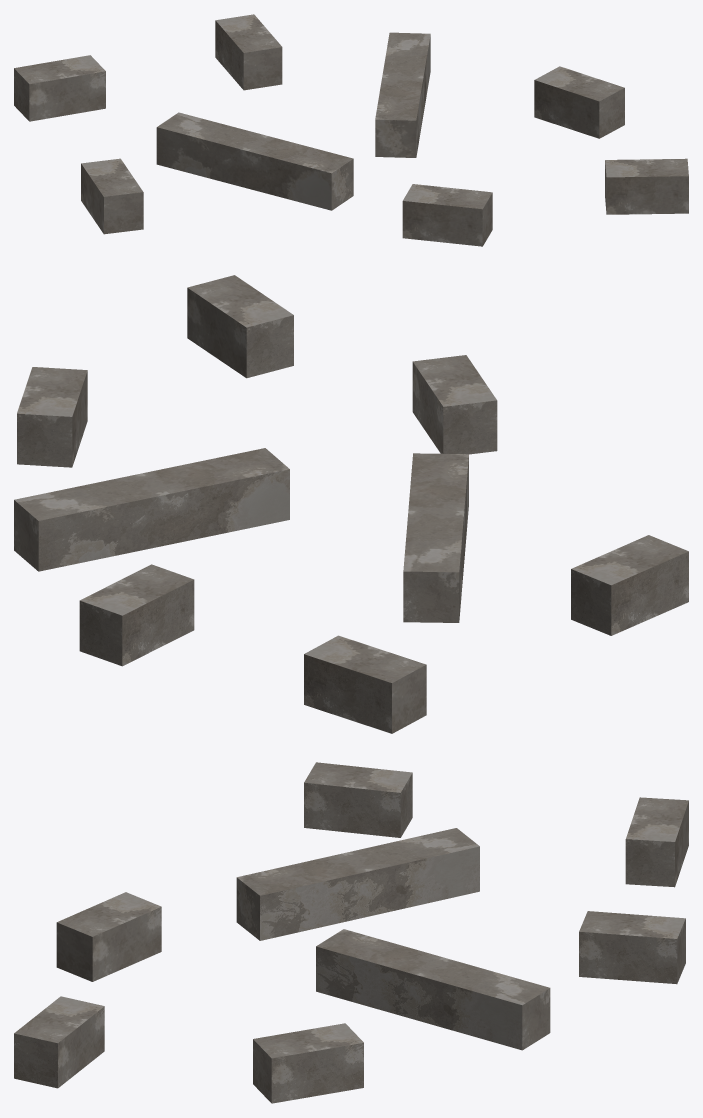
The model's file is Brick_Pile.fbx.
The picture shows the model from 3 angles, top to bottom: view 1: azimuth 30°, elevation 25°; view 2: azimuth 150°, elevation 25°; view 3: azimuth 270°, elevation 25°; orthographic projection. The views are drawn at different scales.
Visible parts, largest first — view 1: Column001, Column002, Brick006, Brick004, Brick003, Brick005, Brick002, Brick001; view 2: Column002, Column001, Brick006, Brick001, Brick002, Brick005, Brick004, Brick003; view 3: Column001, Column002, Brick003, Brick001, Brick002, Brick004, Brick005, Brick006.
Part boxes in pixels (x1,y1,x2,y2): Column001: (156,112,353,210); Column002: (375,32,430,157); Brick006: (14,55,105,121); Brick004: (402,184,492,246); Brick003: (534,66,624,138); Brick005: (605,158,688,214); Brick002: (215,14,282,90); Brick001: (81,158,143,234); Column002: (14,448,289,571); Column001: (403,453,468,622); Brick006: (304,635,426,733); Brick001: (571,535,688,635); Brick002: (79,564,194,666); Brick005: (187,275,293,378); Brick004: (412,355,497,454); Brick003: (17,367,87,467); Column001: (236,828,479,940); Column002: (316,929,550,1050); Brick003: (253,1023,363,1103); Brick001: (304,762,412,837); Brick002: (579,911,685,984); Brick004: (56,892,161,981); Brick005: (14,996,104,1088); Brick006: (625,797,688,887).
Bounding box in the file's own units: 281 × 20 × 271.
